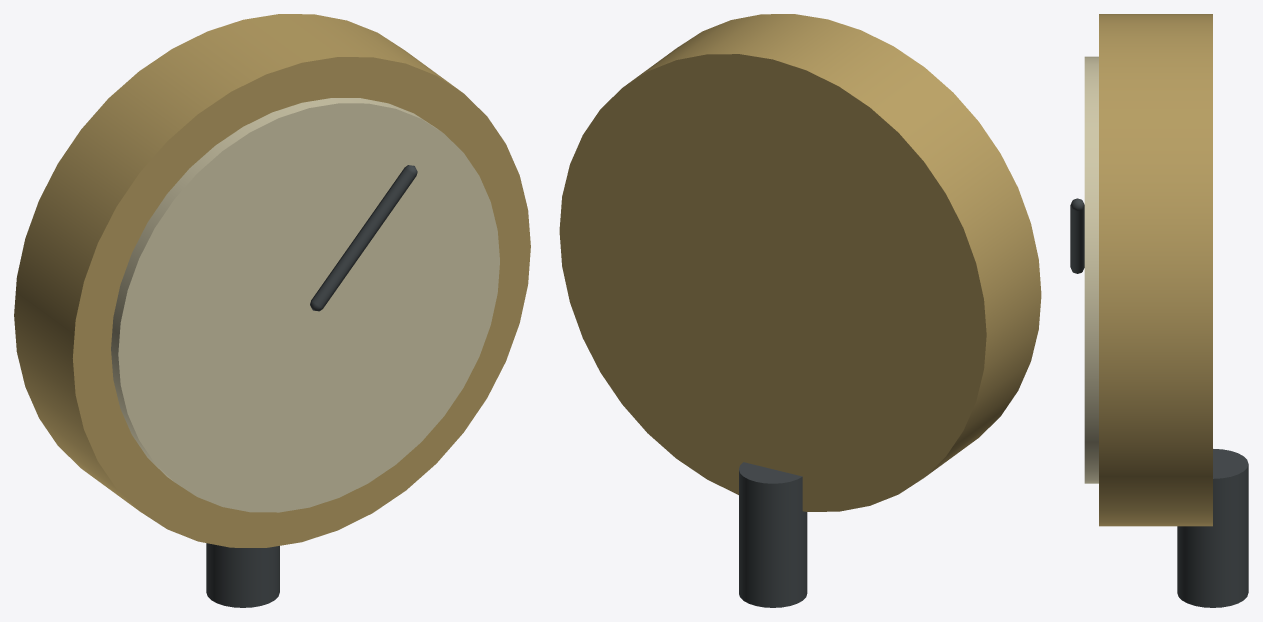
The model's file is undercity-sewers-and-thieves-den-pressure-gauge-3bd84052__27224.glb.
The picture shows the model from 3 angles, left to right: view 1: azimuth 30°, elevation 25°; view 2: azimuth 150°, elevation 25°; view 3: azimuth 270°, elevation 25°; orthographic projection. The views are drawn at different scales.
Visible parts, largest first — view 1: pressure-gauge; view 2: pressure-gauge; view 3: pressure-gauge.
Part boxes in pixels (left/top/right/bottom): pressure-gauge: left=14, top=14, right=530, bottom=607; pressure-gauge: left=559, top=14, right=1041, bottom=607; pressure-gauge: left=1070, top=14, right=1248, bottom=607.
Size of the model in its own units: 0.36 by 0.43 by 0.125.
